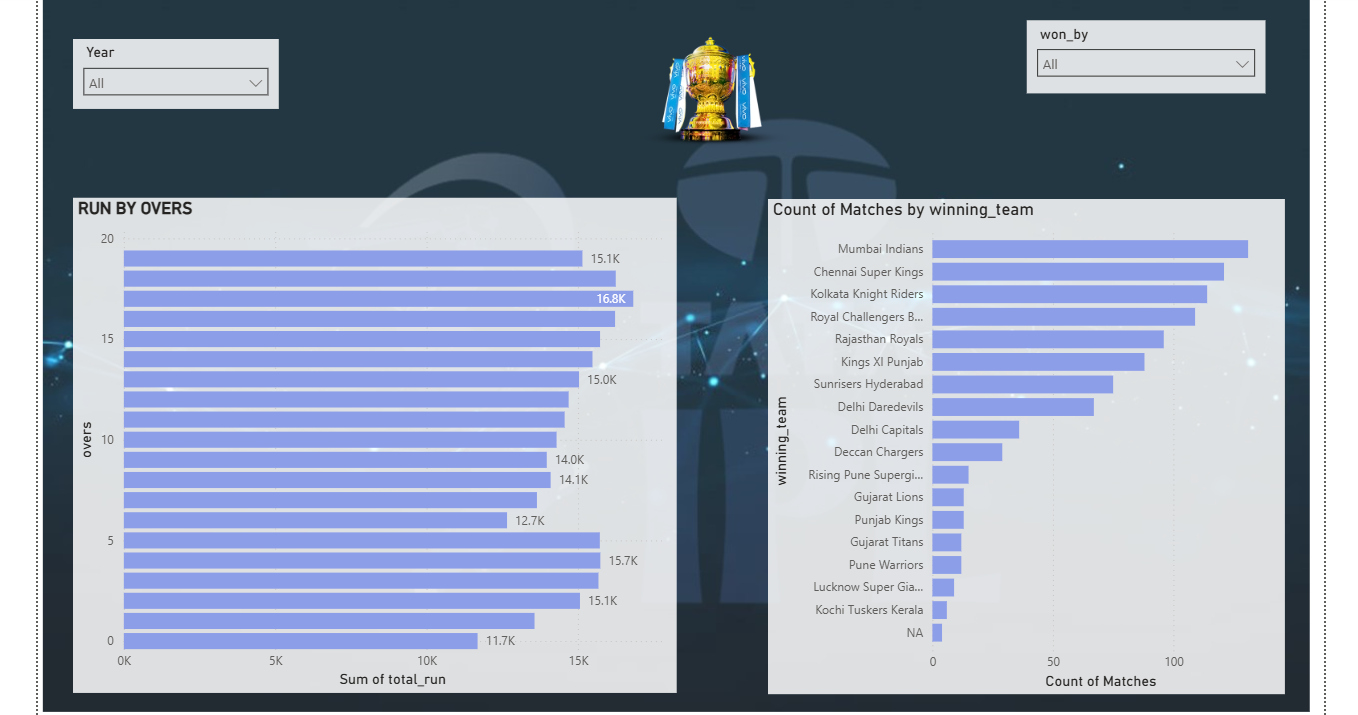

What the dashboard file says about the page in this screenshot:
{"tool":"powerbi","page":{"name":"Overall runs","canvas":[1280,720],"ordinal":4},"visuals":[{"type":"image","box":[0,0,1270.7,720.4],"z":0},{"type":"clusteredBarChart","title":"RUN BY OVERS","fields":{"Category":["ipl_ball_by_ball_2008_2022.overs"],"Y":["Sum(ipl_ball_by_ball_2008_2022.total_run)"]},"box":[34.3,203.1,601,492.6],"z":1000},{"type":"slicer","fields":{"Values":["Calender Table.Year"]},"box":[34.3,45.3,204.5,70],"z":2000},{"type":"clusteredBarChart","fields":{"Category":["ipl_matches_2008_2022.winning_team"],"Y":["CountNonNull(ipl_matches_2008_2022.id)"]},"box":[725.9,204.5,514.6,492.6],"z":3000},{"type":"slicer","fields":{"Values":["ipl_matches_2008_2022.won_by"]},"box":[983.9,26.1,237.4,72.7],"z":4000},{"type":"image","box":[591.4,16.5,164.7,164.7],"z":5000}]}

Visuals, with their boxes on the page's 1280x720 design canvas (x1, y1, x2, y2). These are canvas units, not pixel positions in the 1358x715 screenshot, which may show the page scaled, cropped or inside an application window:
image: pyautogui.locateOnScreen(0, 0, 1271, 720)
"RUN BY OVERS" clusteredBarChart: pyautogui.locateOnScreen(34, 203, 635, 696)
slicer - Calender Table.Year: pyautogui.locateOnScreen(34, 45, 239, 115)
clusteredBarChart - ipl_matches_2008_2022.winning_team x CountNonNull(ipl_matches_2008_2022.id): pyautogui.locateOnScreen(726, 204, 1240, 697)
slicer - ipl_matches_2008_2022.won_by: pyautogui.locateOnScreen(984, 26, 1221, 99)
image: pyautogui.locateOnScreen(591, 16, 756, 181)
